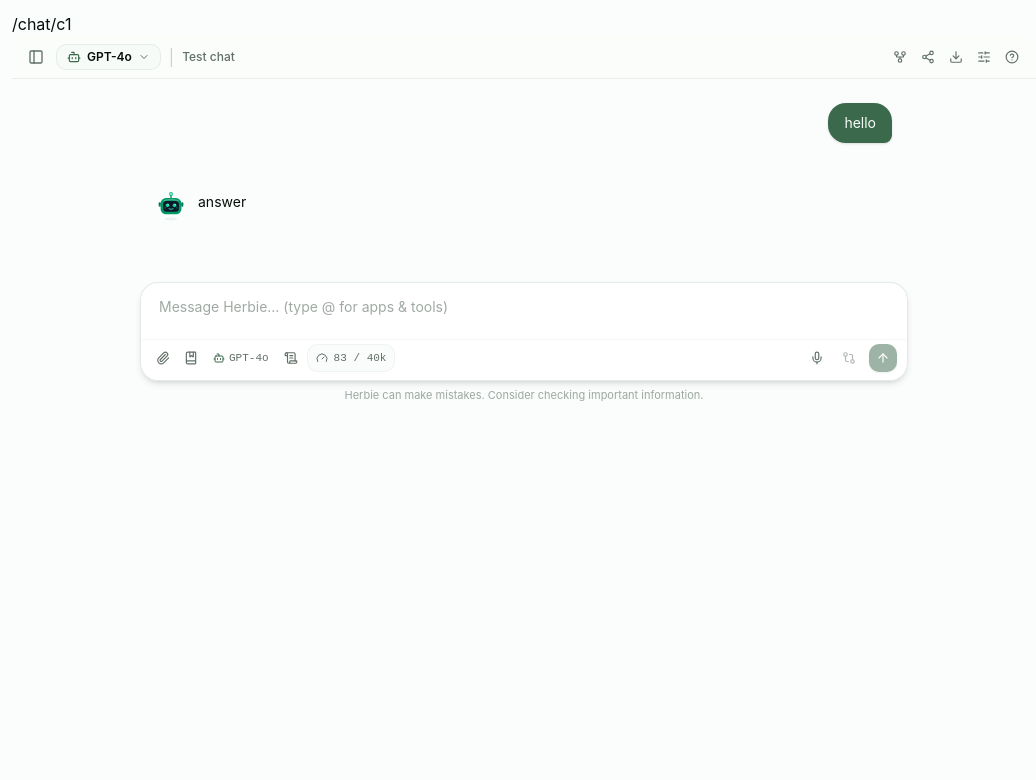
Test: ChatPage conversation actions › surfaces an active run as a retryable error without a streaming placeholder
Expected: the text "answer" is shown, [198, 193, 246, 210]
Type "another question" into the text box with placeholder "Message Herbie… (type @ for apps & tools)".
click(524, 311); type("another question")  # box [151, 293, 897, 329]
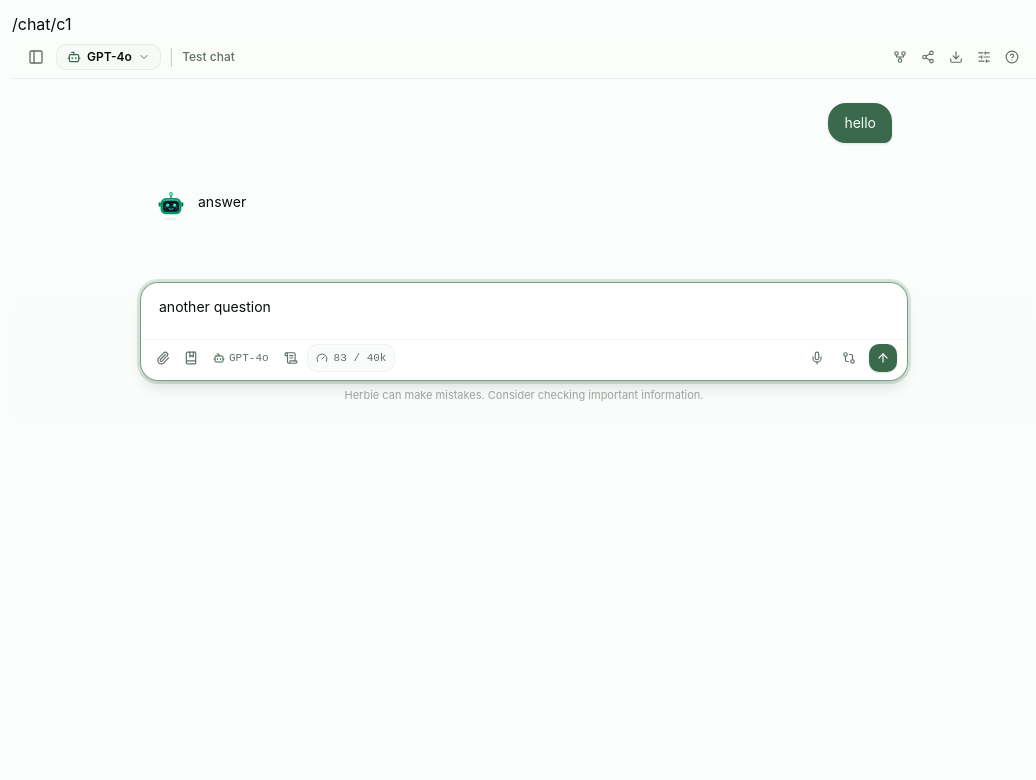
Click the button named "Send message".
click(883, 358)  # box [869, 344, 897, 372]
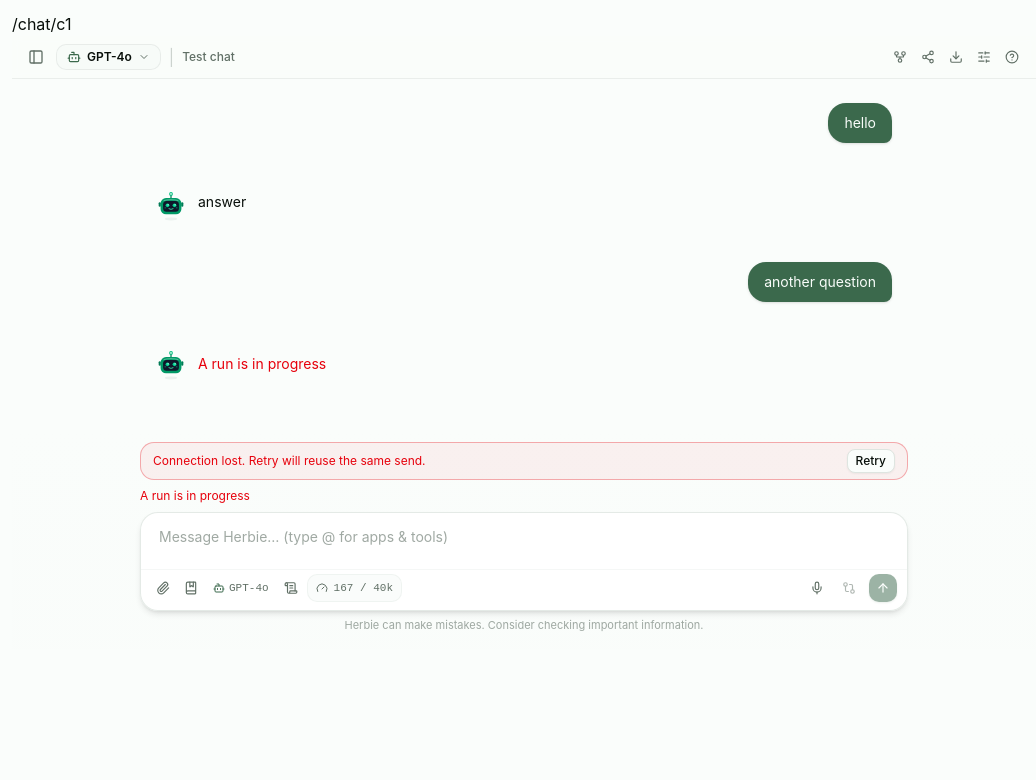
Result: the text "A run is in progress" below "another question" is shown at [198, 355, 326, 372]
